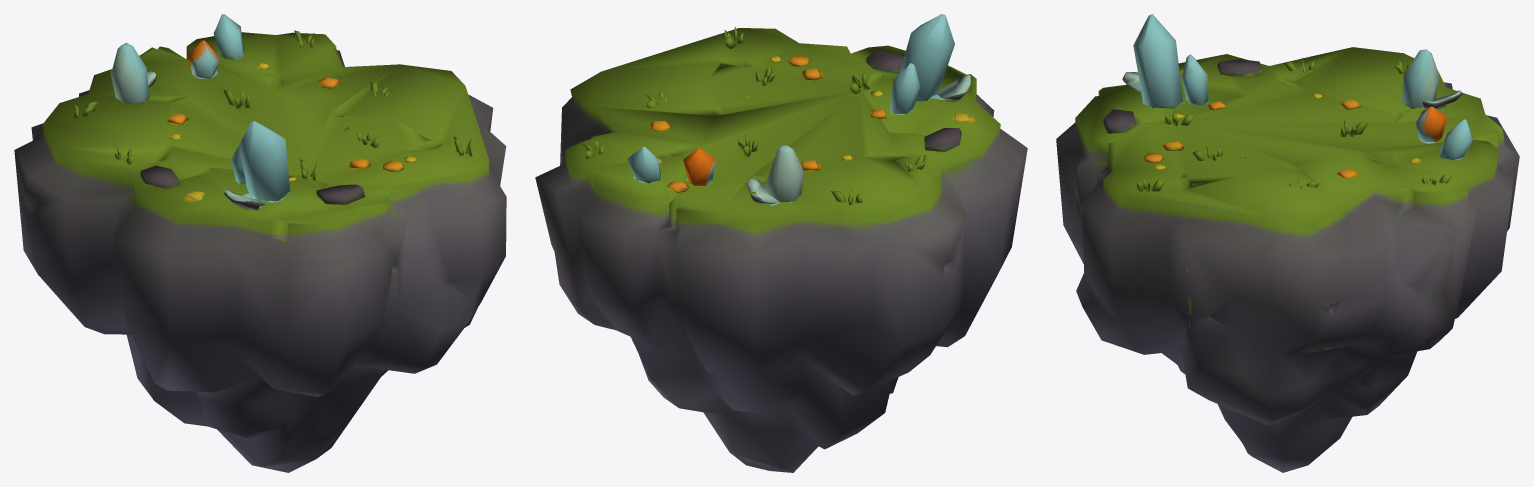
The model's file is floating-rock-low.glb.
3 views of the same model, side by side, from view 1: azimuth 30°, elevation 25°; view 2: azimuth 150°, elevation 25°; view 3: azimuth 270°, elevation 25° (orthographic). The views are drawn at different scales.
Visible parts, largest first — view 1: floating-rock; view 2: floating-rock; view 3: floating-rock.
Boxes of the visible parts, x1,y1,x2,y2 form: floating-rock: (14, 14, 506, 472); floating-rock: (535, 14, 1027, 472); floating-rock: (1056, 14, 1519, 472).
Bounding box in the file's own units: 1 × 0.9765 × 1.
Materials: 1 (1 with a texture image).
